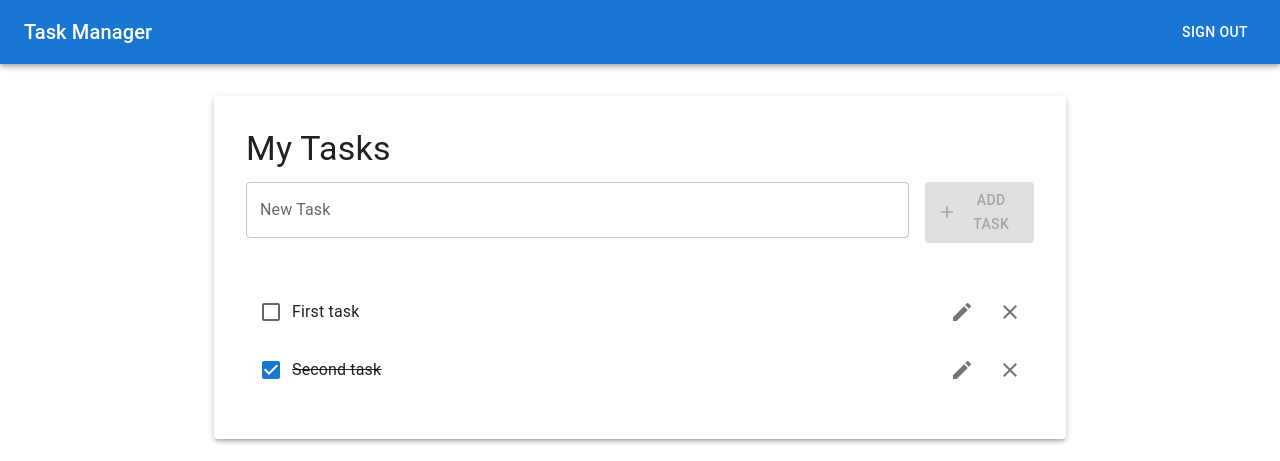
Test: HomePage Component › when user is authenticated › should allow a user to delete a task
This screenshot has width=1280, height=461.
Expected: the text "First task" is shown, left=292, top=302, right=359, bottom=321
Step 1. Click the button named "delete" in the row of "First task" → (1010, 312), box left=990, top=292, right=1030, bottom=332
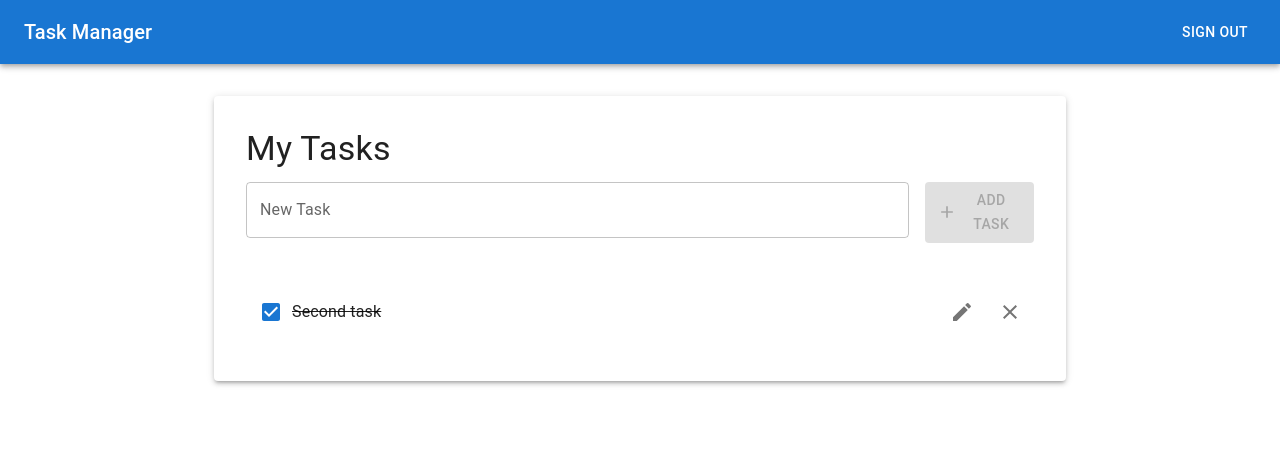
Expected: the text "First task" is gone
